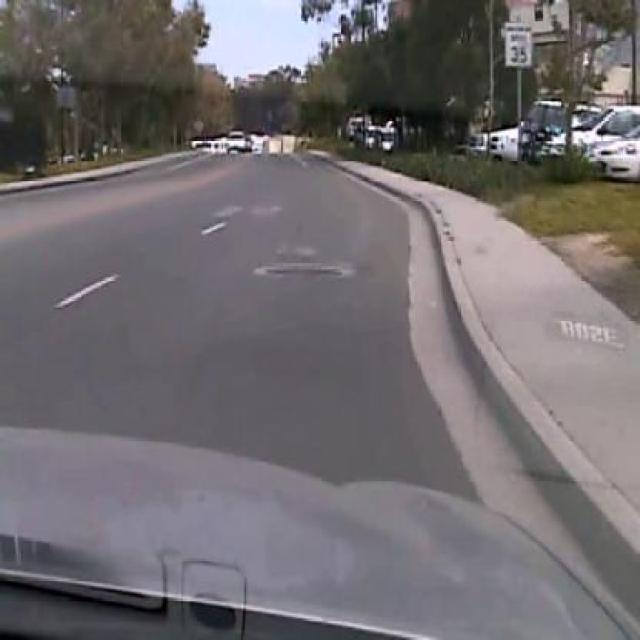speedLimit35: (505, 20, 532, 68)
